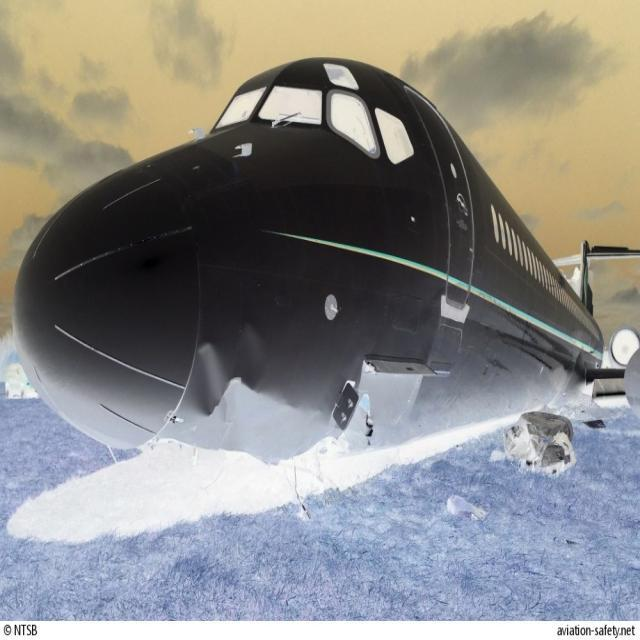dent: (235, 341, 330, 444), (192, 333, 226, 416)
